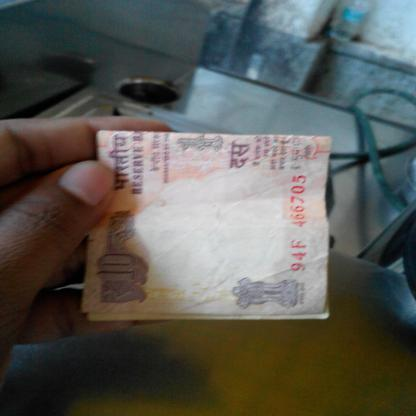Old10Front: (83, 130, 331, 322)
